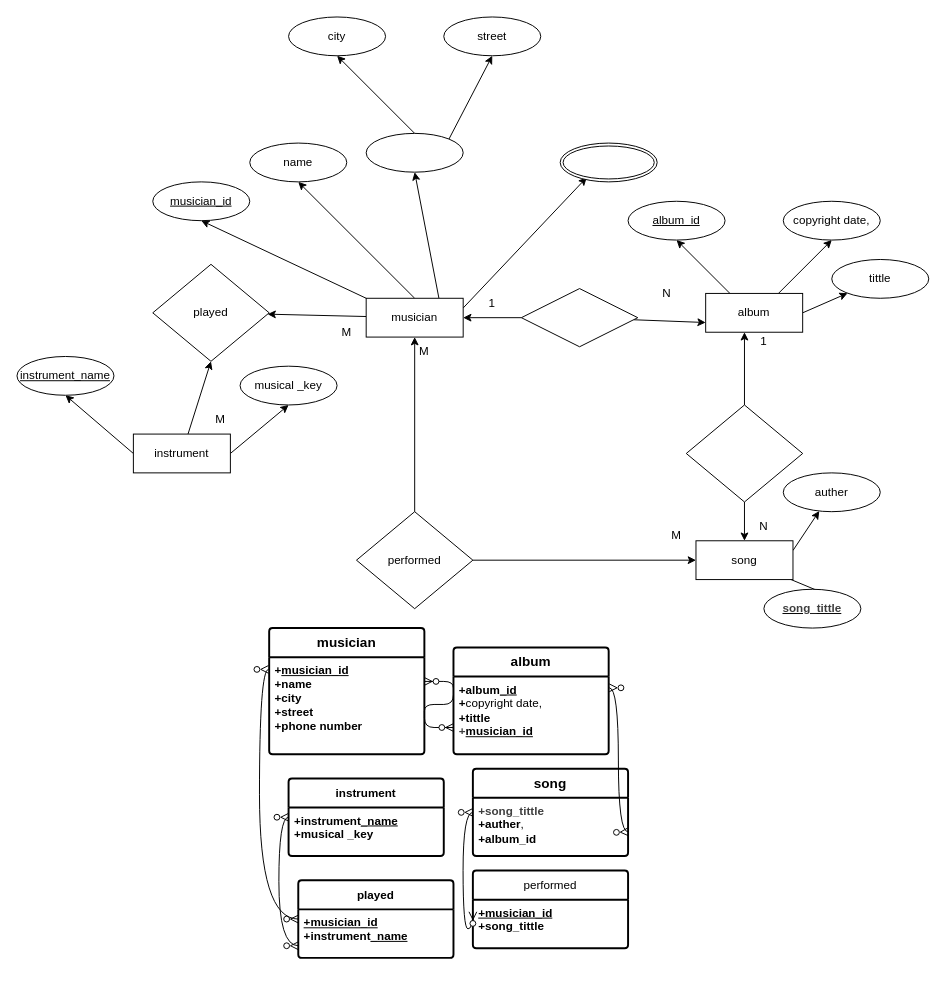
Some shapes in this 946 by 989 pixel diagram are drawn without their labels. The shapes that lost their labels are listed below. From the top down, each one's box as (x1, y1, x2, y2) in pixels, then its label:
(365, 132, 463, 172): address
(559, 142, 657, 182): phone number
(520, 288, 638, 347): producer.
(685, 404, 803, 502): appear
